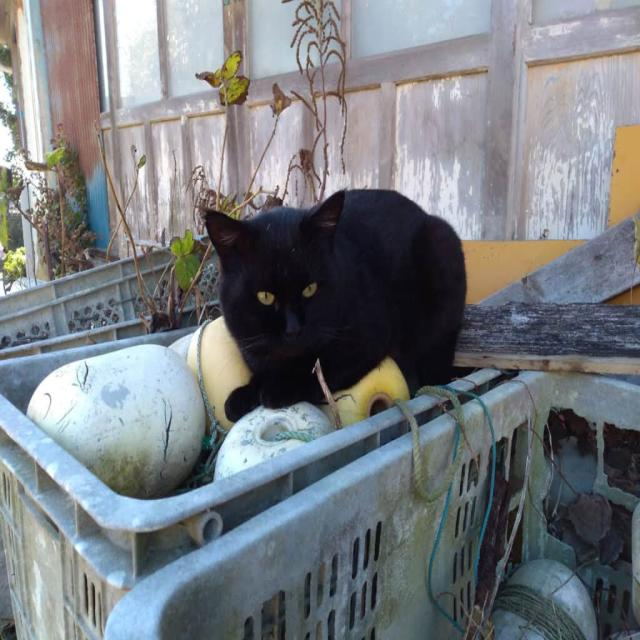cat: (206, 190, 466, 422)
